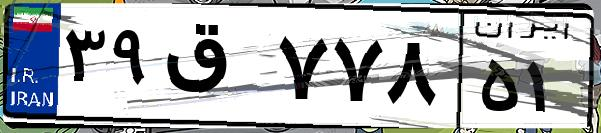1: (525, 38, 570, 115)
3: (57, 26, 110, 100)
5: (475, 38, 525, 113)
7: (270, 28, 330, 110), (330, 28, 385, 110)
8: (385, 28, 445, 110)
9: (110, 28, 158, 98)
ق: (158, 20, 270, 120)
